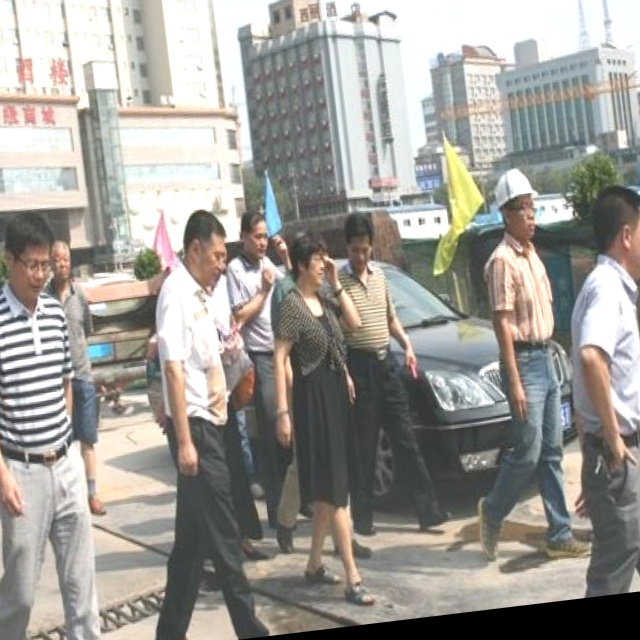Sin_Casco_Mascarrilla: (178, 205, 234, 289)
Sin_Chaleco: (0, 286, 85, 472)
